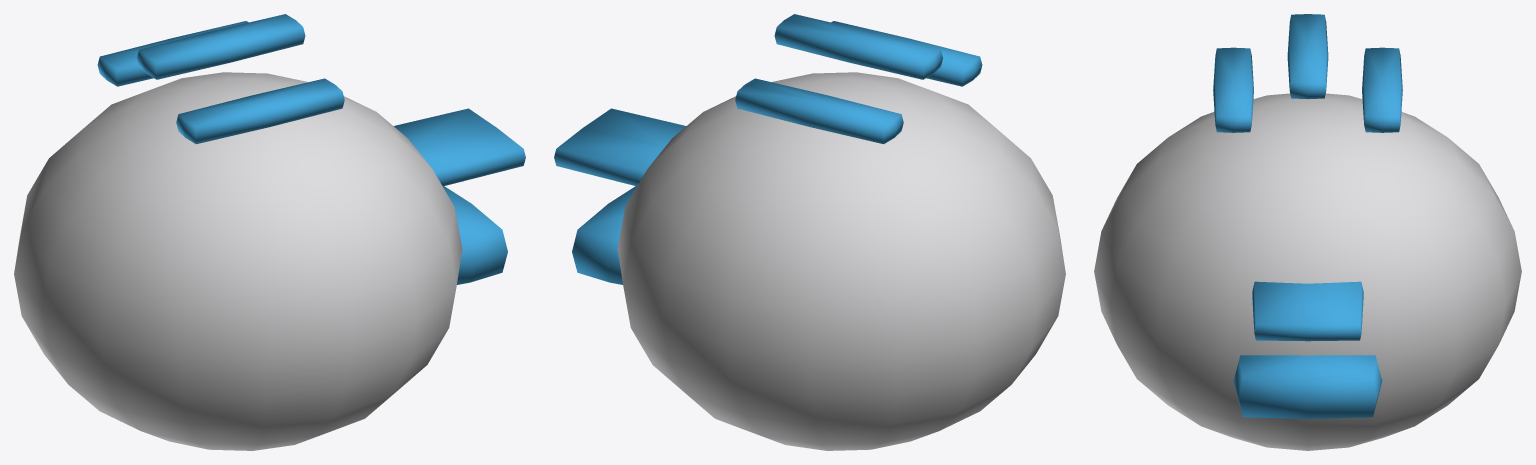
Rendered from helmet-road.glb.
3 views of the same model, side by side, from view 1: azimuth 30°, elevation 25°; view 2: azimuth 150°, elevation 25°; view 3: azimuth 270°, elevation 25° (orthographic). The views are drawn at different scales.
Parts seen in each view (by area): view 1: helmet; view 2: helmet; view 3: helmet.
Part boxes in pixels (left/top/right/bottom): helmet: left=14, top=14, right=525, bottom=450; helmet: left=554, top=14, right=1065, bottom=450; helmet: left=1094, top=14, right=1521, bottom=450.
Size of the model in its own units: 0.2685 by 0.2208 by 0.23.
